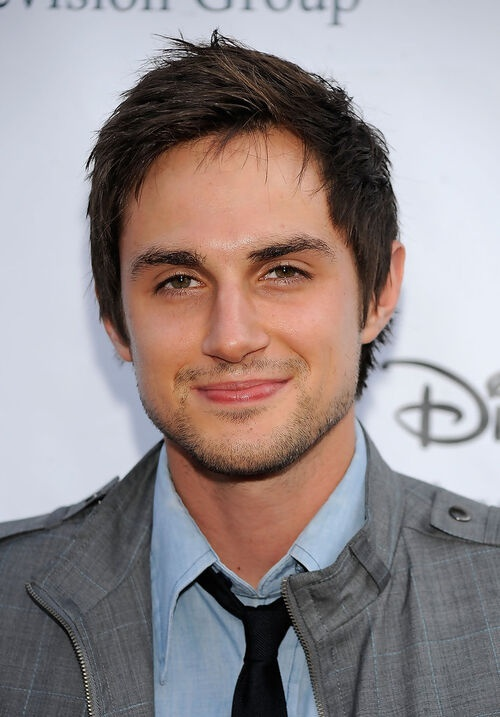bad: (117, 217, 340, 440)
